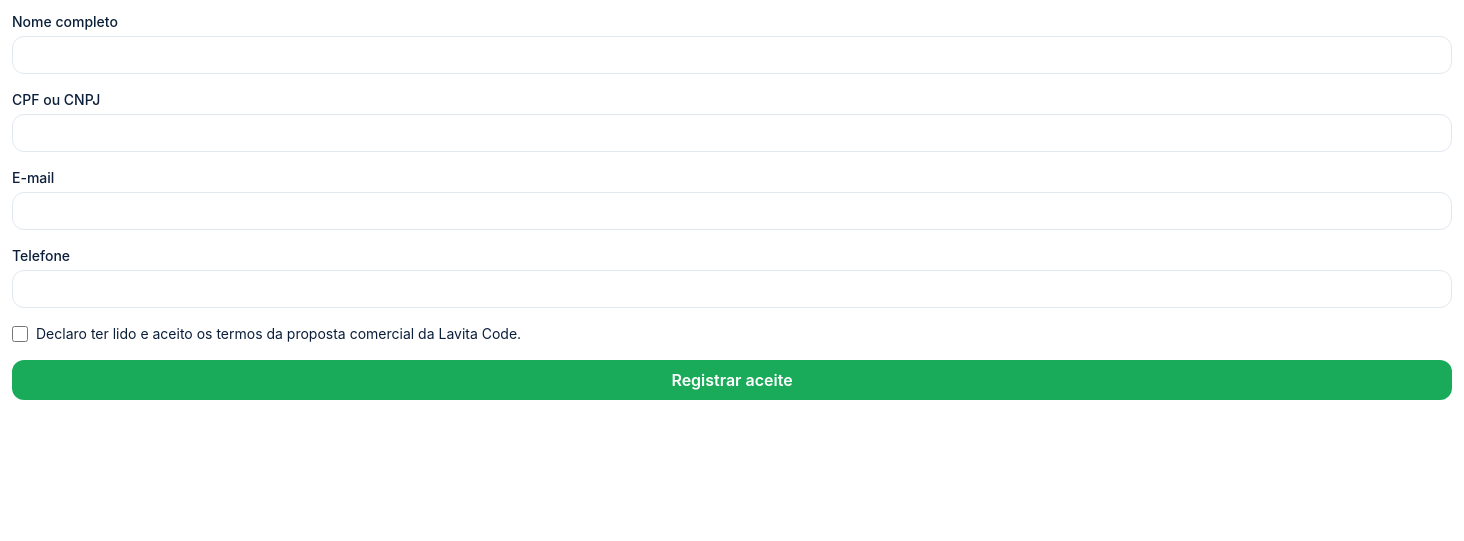
Test case: AceiteForm — erro de rede › exibe banner de erro e preserva os dados digitados
Type "Maria da Silva Souza" into the field labelled "Nome completo" at point(732, 55), box [12,36,1452,74]
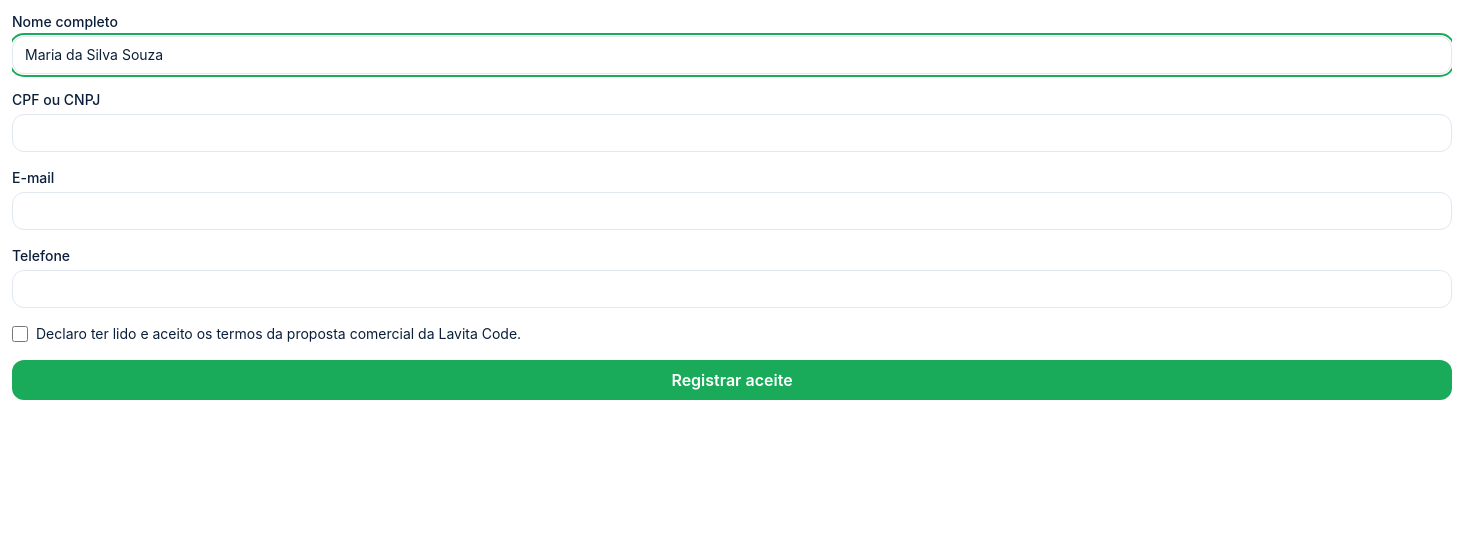
Type "123.456.789-00" into the field labelled "CPF ou CNPJ" at point(732, 133), box [12,114,1452,152]
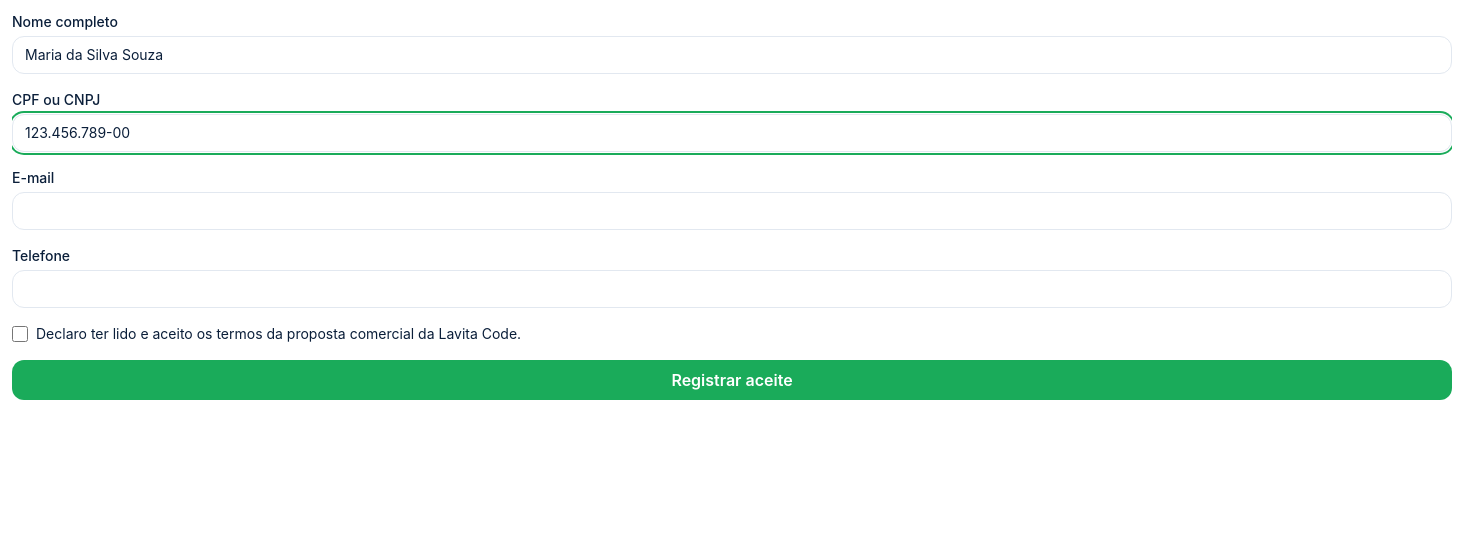
Type "maria@example.com" into the field labelled "E-mail" at point(732, 211), box [12,192,1452,230]
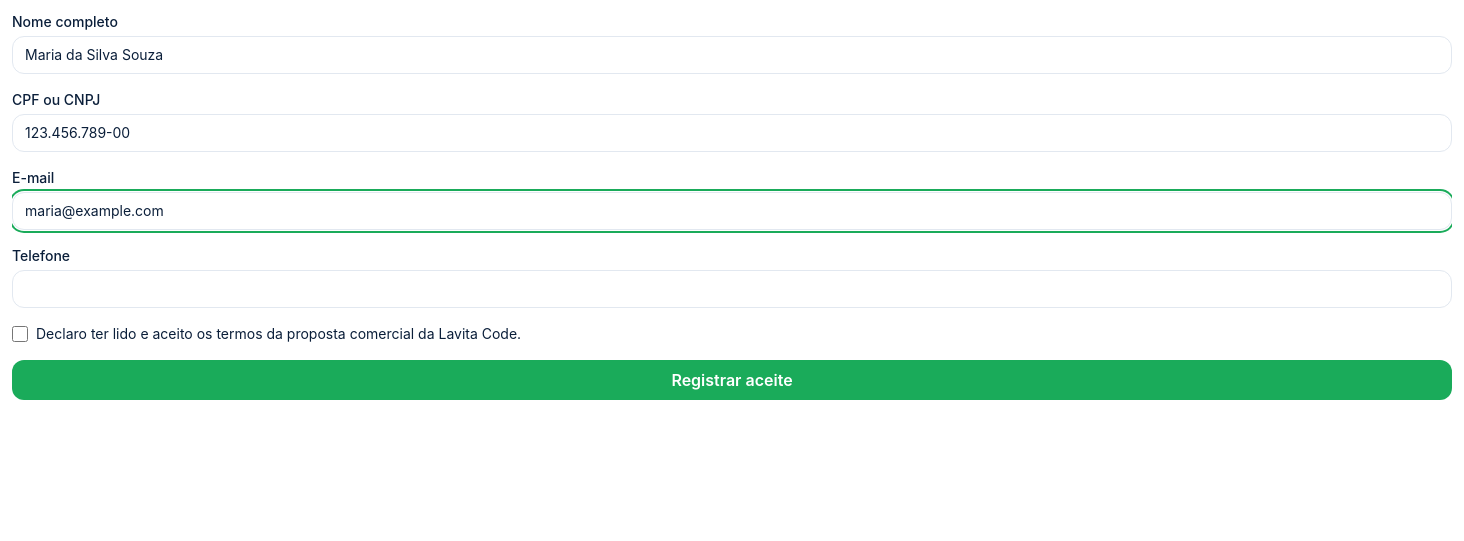
Type "(85) 98765-4321" into the field labelled "Telefone" at point(732, 289), box [12,270,1452,308]
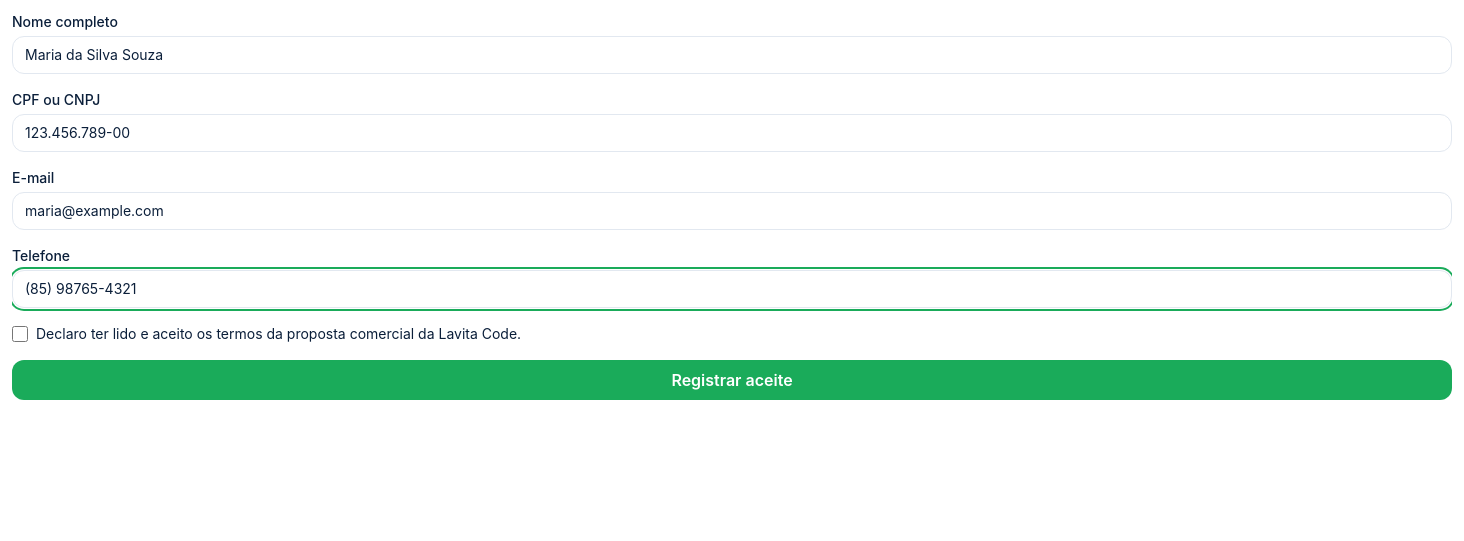
Click the checkbox at point(20, 334), box [12,326,28,342]
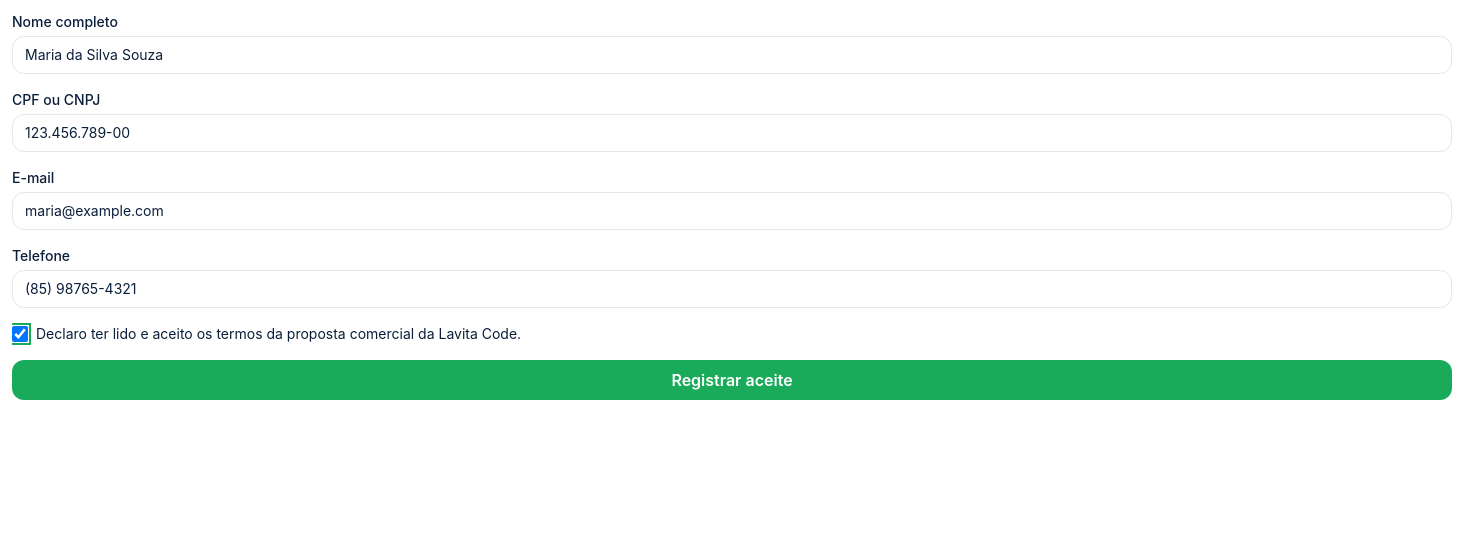
Click the button "Registrar aceite" at point(732, 380), box [12,360,1452,400]
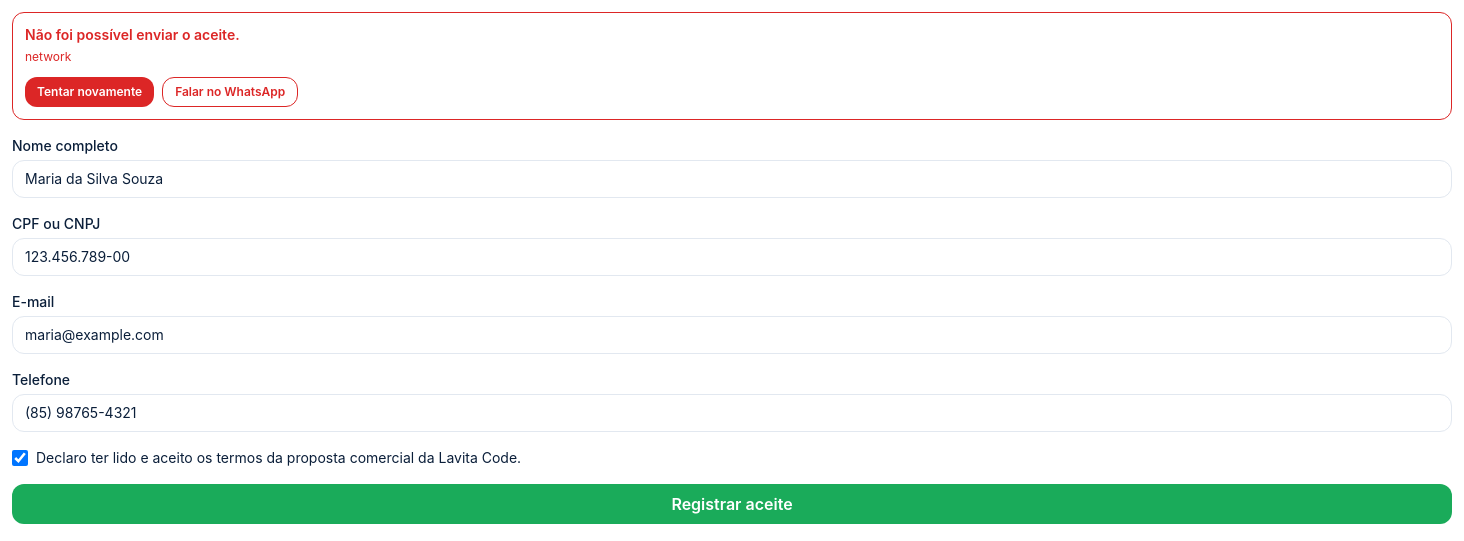
Expected: the message shows "Não foi possível enviar o aceite", [25,26,240,43]
Expected: the button "Tentar novamente" is shown, [25,77,154,107]
Expected: the link "Falar no WhatsApp" is shown, [162,77,298,107]
